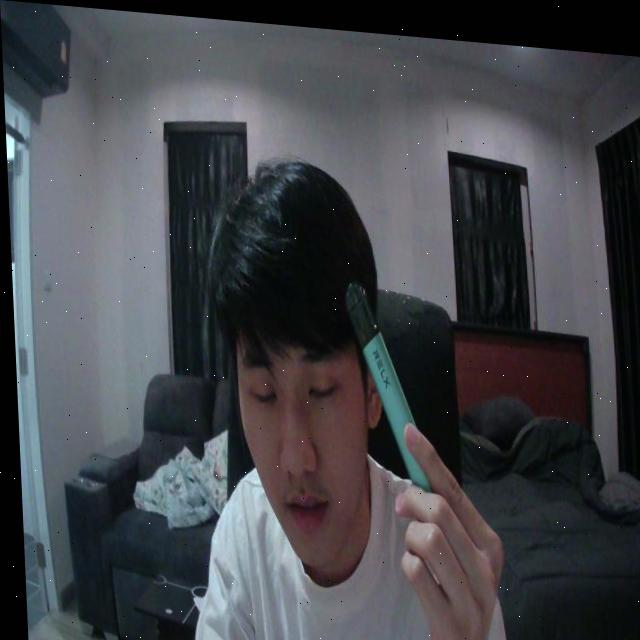vape: (335, 268, 433, 482)
